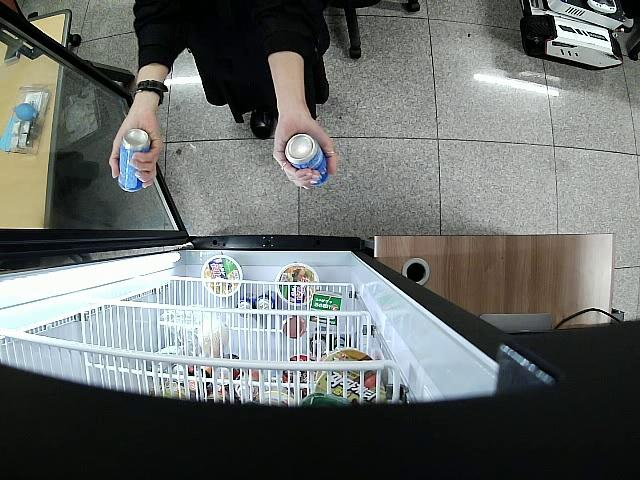00_hand: (272, 112, 338, 190), (107, 111, 166, 191)
15_letsbe: (285, 133, 333, 189), (116, 128, 151, 194)
